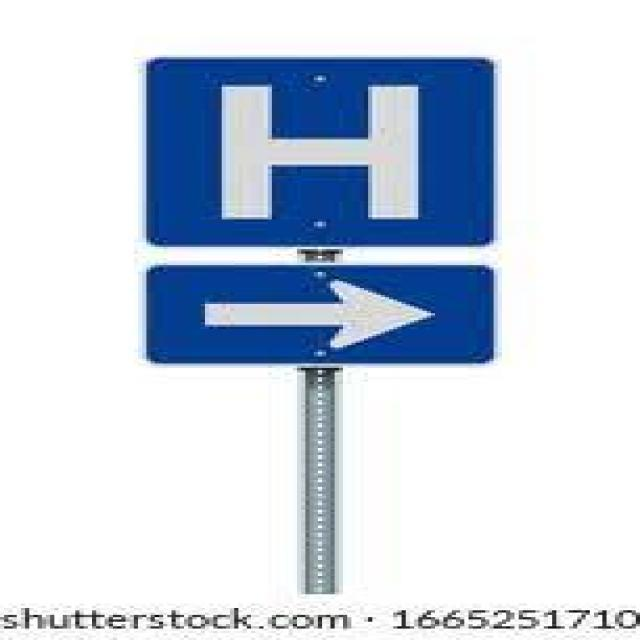hospital ahead: (171, 71, 470, 237)
